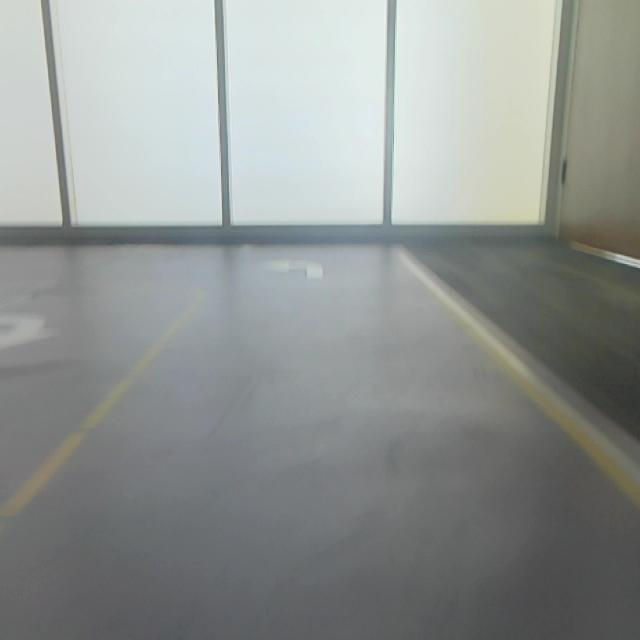left_lane: (0, 293, 201, 534)
right_lane: (394, 249, 640, 508)
